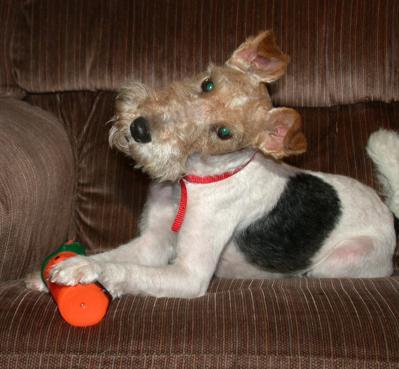wire-haired_fox_terrier: (46, 27, 398, 300)
